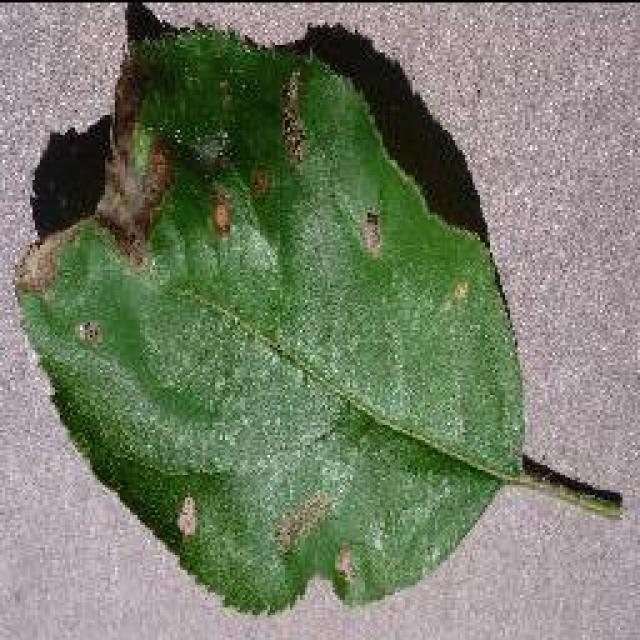Black_rot: (10, 2, 622, 618)
